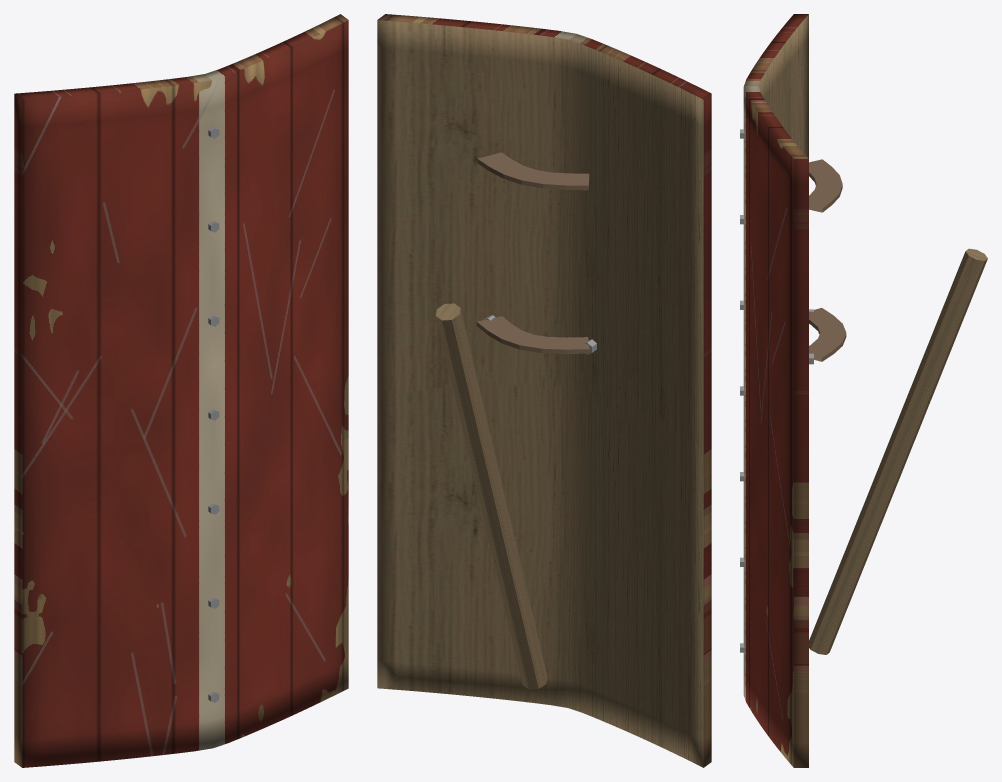
File: pavise_p1_w1.glb
3 renders of one model, left to right at view 1: azimuth 30°, elevation 25°; view 2: azimuth 150°, elevation 25°; view 3: azimuth 270°, elevation 25°, orthographic. The views are drawn at different scales.
Parts seen in each view (by area): view 1: pavise_p1_w1; view 2: pavise_p1_w1; view 3: pavise_p1_w1.
Part boxes in pixels (<box>): pavise_p1_w1: <box>14,14,348,767</box>; pavise_p1_w1: <box>377,14,711,767</box>; pavise_p1_w1: <box>740,14,987,767</box>.
Bounding box in the file's own units: 0.46 × 0.9 × 0.3322.
4 materials, 2 textured.
